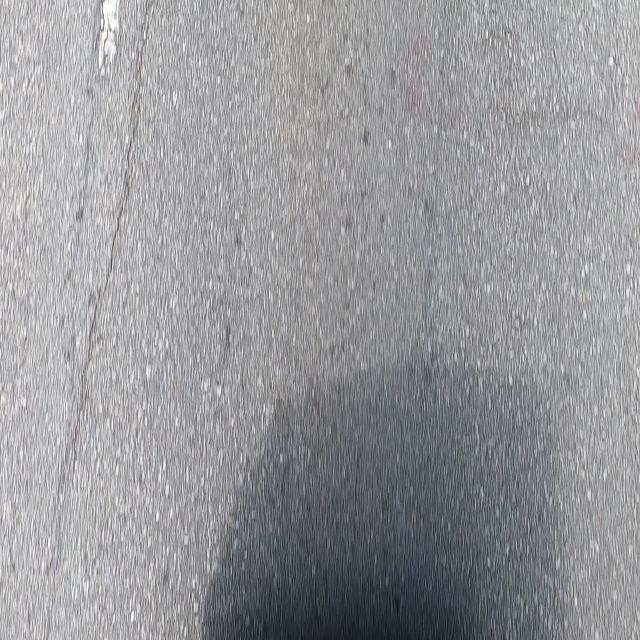Retak-Memanjang: (62, 5, 155, 480)
